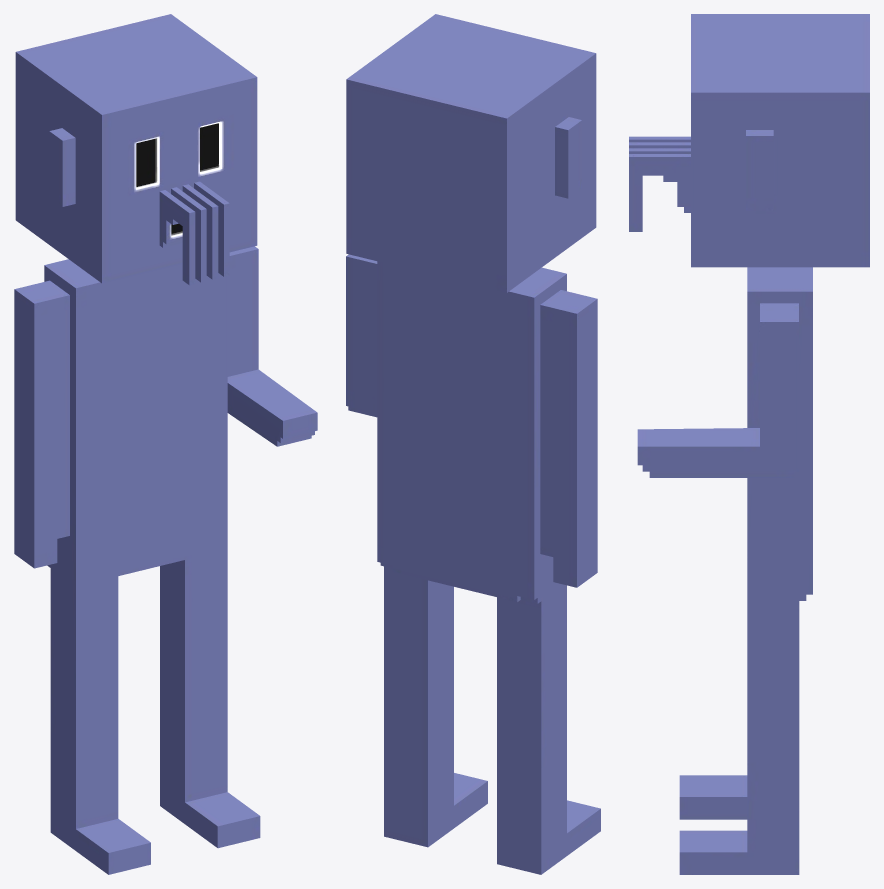
The model's file is squid.glb.
The picture shows the model from 3 angles, left to right: view 1: azimuth 30°, elevation 25°; view 2: azimuth 150°, elevation 25°; view 3: azimuth 270°, elevation 25°; orthographic projection. The views are drawn at different scales.
Visible parts, largest first — view 1: squid.001; view 2: squid.001; view 3: squid.001.
Part boxes in pixels (x1,y1,x2,y2): squid.001: (14, 14, 317, 874); squid.001: (346, 14, 600, 874); squid.001: (629, 14, 869, 874).
Bounding box in the file's own units: 3.9 × 12.56 × 3.5.
1 material, 1 textured.
